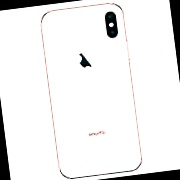iphone: (47, 6, 132, 176)
